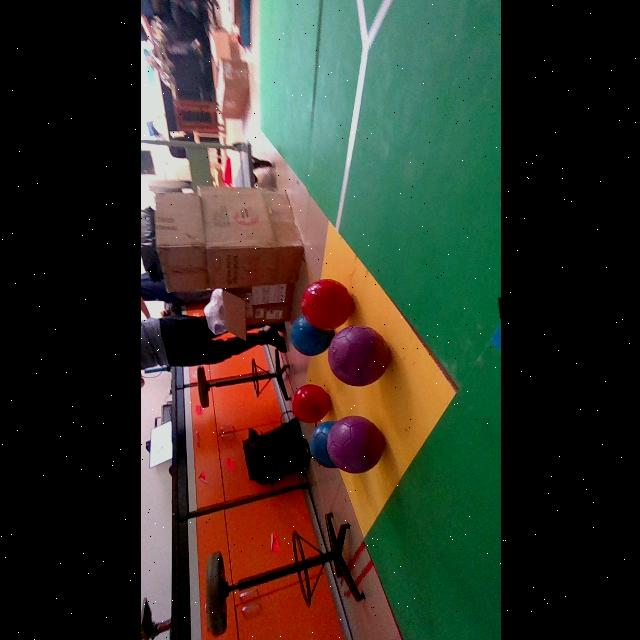B: (290, 316, 333, 355), (308, 421, 335, 468)
P: (328, 325, 389, 387), (326, 416, 384, 473)
R: (300, 278, 352, 329), (292, 386, 328, 423)
